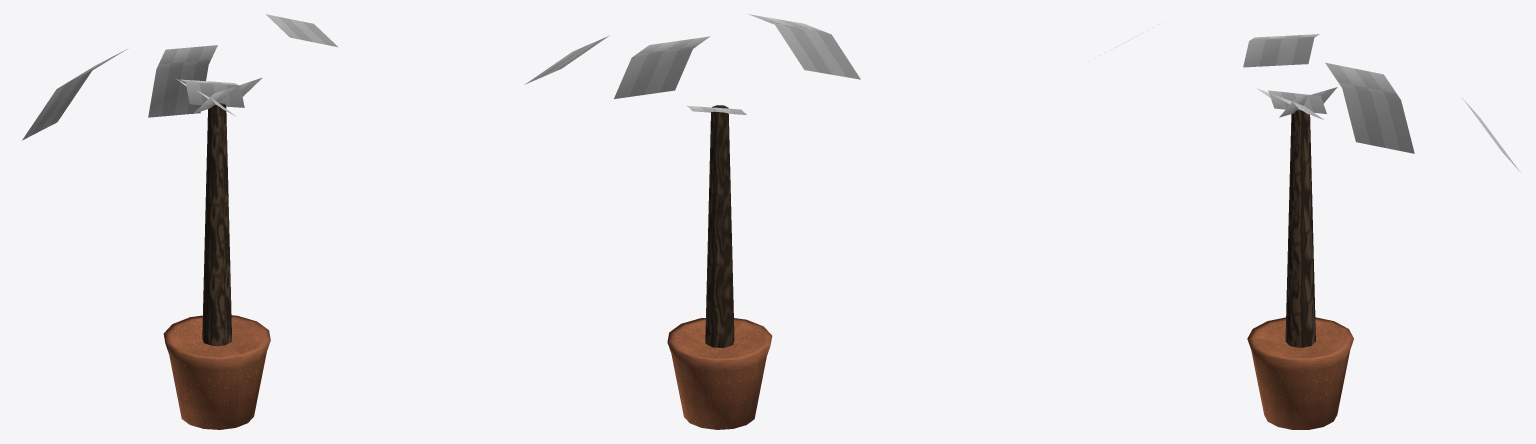
The model's file is palmTree.glb.
3 views of the same model, side by side, from view 1: azimuth 30°, elevation 25°; view 2: azimuth 150°, elevation 25°; view 3: azimuth 270°, elevation 25° (orthographic). The views are drawn at different scales.
Parts seen in each view (by area): view 1: palmTree, dyn_color_tint; view 2: palmTree, dyn_color_tint; view 3: palmTree, dyn_color_tint.
Boxes of the visible parts, x1,y1,x2,y2 form: palmTree: [163, 103, 270, 429]; dyn_color_tint: [22, 14, 337, 140]; palmTree: [667, 105, 772, 429]; dyn_color_tint: [524, 14, 860, 114]; palmTree: [1247, 109, 1353, 429]; dyn_color_tint: [1094, 24, 1520, 172].
Size of the model in its own units: 2.99 by 2.6 by 3.45.
3 materials, 3 textured.
